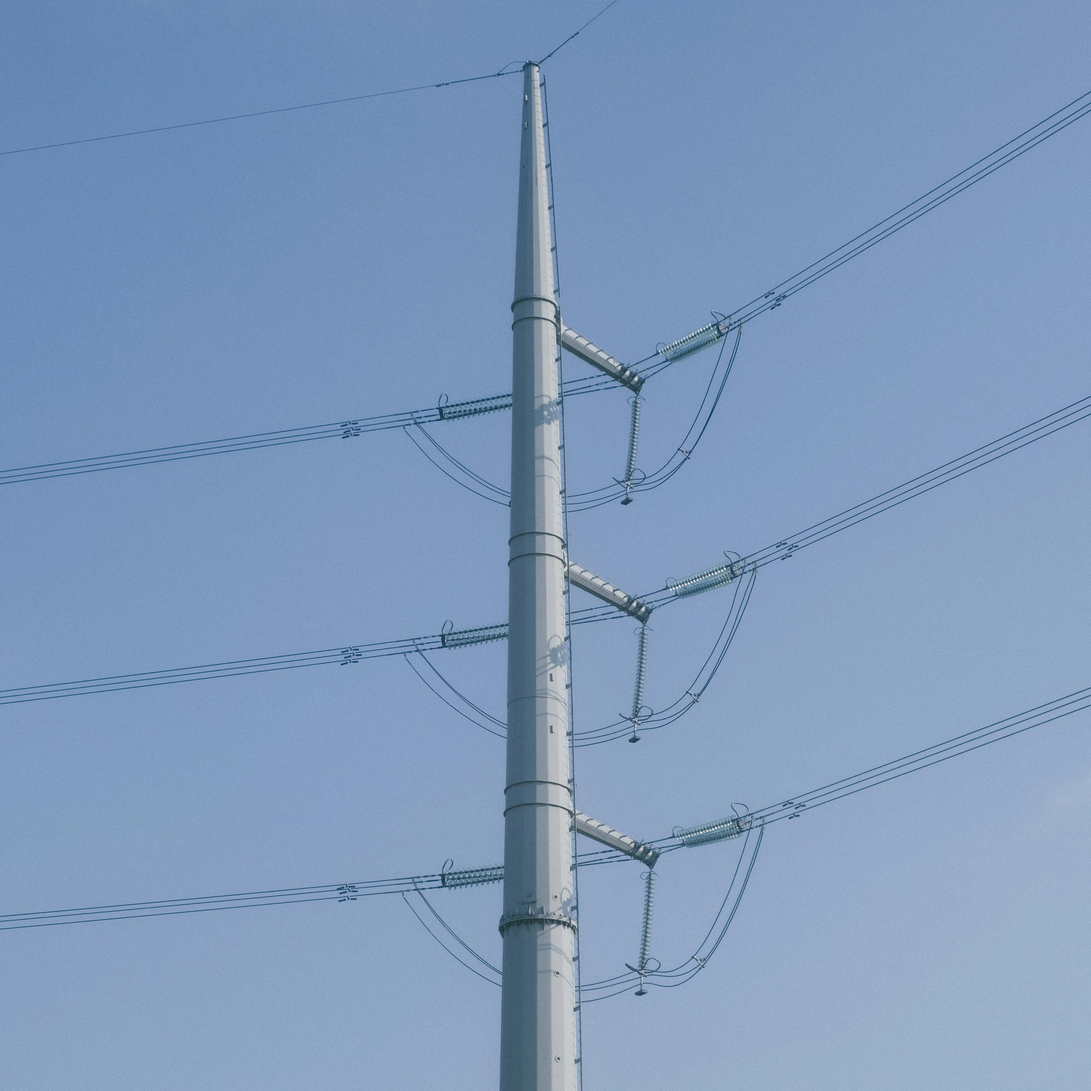insulator: (437, 611, 522, 653), (656, 309, 719, 364), (667, 559, 744, 603), (627, 621, 656, 728), (668, 814, 754, 849), (440, 386, 518, 422), (620, 394, 648, 488), (636, 874, 659, 971), (439, 864, 505, 890)
